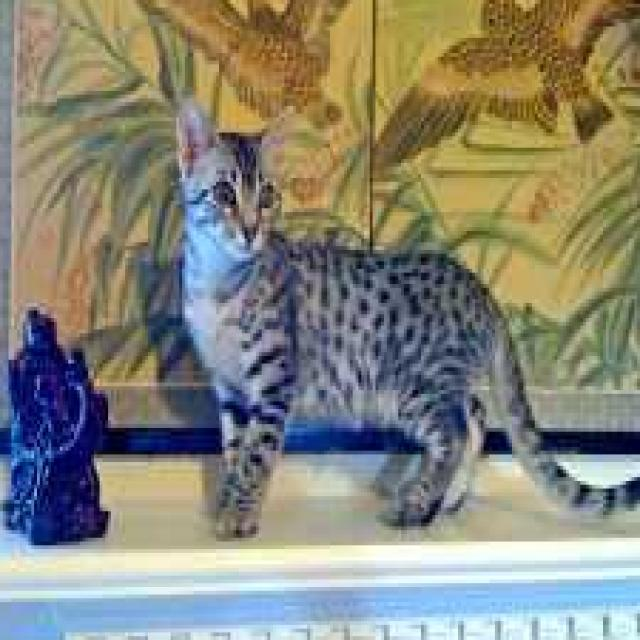Egyptian Mau: (165, 102, 640, 538)
